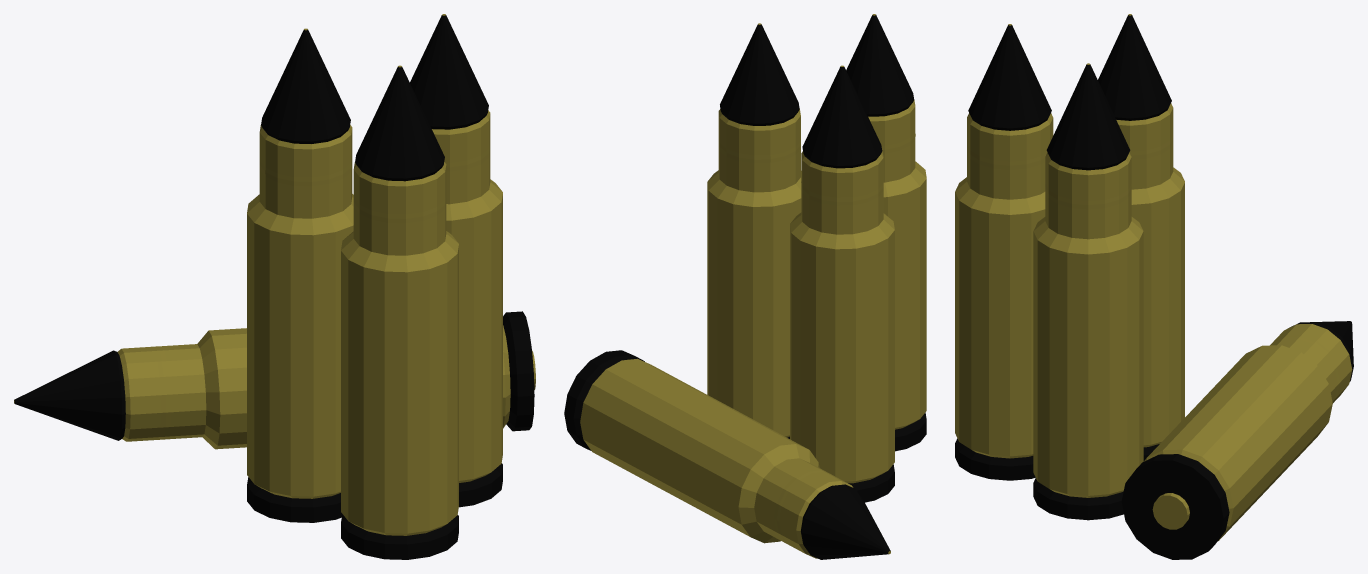
Rendered from Primary.fbx.
3 renders of one model, left to right at view 1: azimuth 30°, elevation 25°; view 2: azimuth 150°, elevation 25°; view 3: azimuth 270°, elevation 25°, orthographic. The views are drawn at different scales.
Parts seen in each view (by area): view 1: Primary Bullets; view 2: Primary Bullets; view 3: Primary Bullets.
Boxes of the visible parts, x1,y1,x2,y2 form: Primary Bullets: (14, 14, 535, 559); Primary Bullets: (564, 14, 926, 559); Primary Bullets: (955, 14, 1353, 559).
Size of the model in its own units: 37.18 by 39.03 by 31.93.
